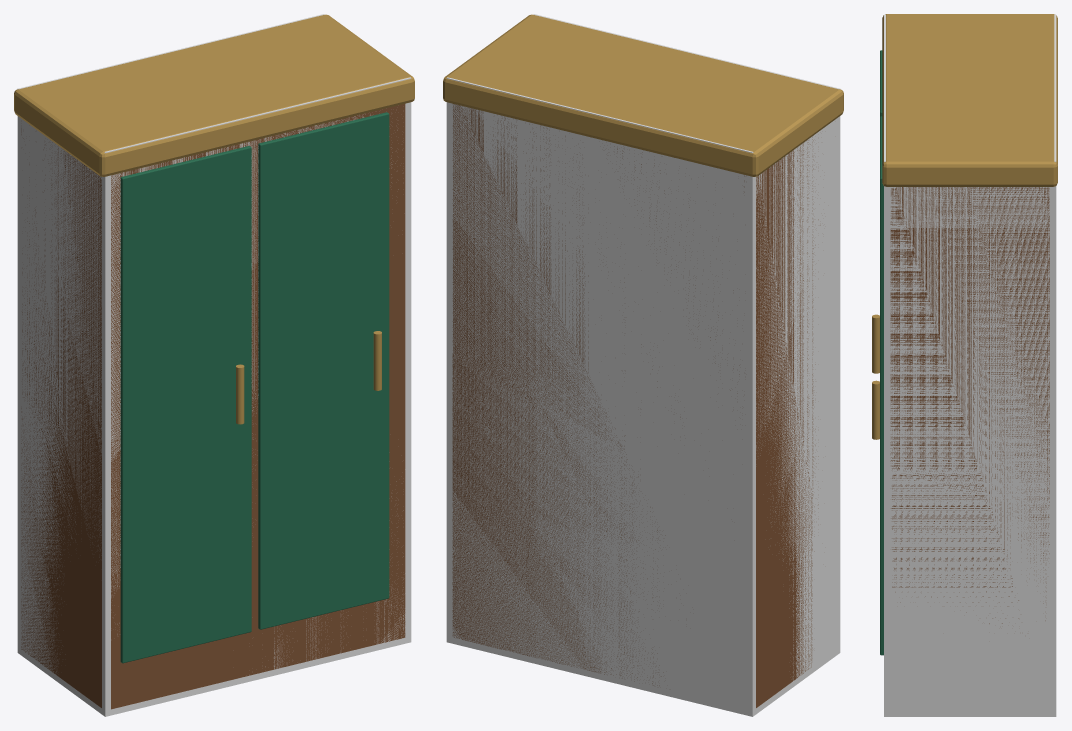
File: storage-cabinet_boutique.glb
3 renders of one model, left to right at view 1: azimuth 30°, elevation 25°; view 2: azimuth 150°, elevation 25°; view 3: azimuth 270°, elevation 25°, orthographic.
Parts seen in each view (by area): view 1: MESH_Door_01, MESH_Door_02, MESH_CabinetCarcass, COL_storage-cabinet, MESH_Crown; view 2: COL_storage-cabinet, MESH_CabinetCarcass, MESH_Crown; view 3: COL_storage-cabinet, MESH_CabinetCarcass, MESH_Crown, MESH_Door_02, MESH_Handle, MESH_Handle.001.
Boxes of the visible parts, box(x1,y1,x2,y2) form: MESH_Door_01: box(120, 146, 251, 663); MESH_Door_02: box(258, 112, 389, 629); MESH_CabinetCarcass: box(21, 104, 405, 709); COL_storage-cabinet: box(17, 14, 411, 716); MESH_Crown: box(14, 14, 414, 176); COL_storage-cabinet: box(446, 14, 840, 716); MESH_CabinetCarcass: box(452, 104, 820, 707); MESH_Crown: box(443, 14, 843, 176); COL_storage-cabinet: box(884, 14, 1056, 716); MESH_CabinetCarcass: box(890, 187, 1049, 623); MESH_Crown: box(882, 14, 1057, 186); MESH_Door_02: box(880, 116, 883, 655); MESH_Handle: box(872, 314, 879, 373); MESH_Handle.001: box(872, 380, 879, 439).
Bounding box in the file's own units: 1.08 × 1.85 × 0.5612.
